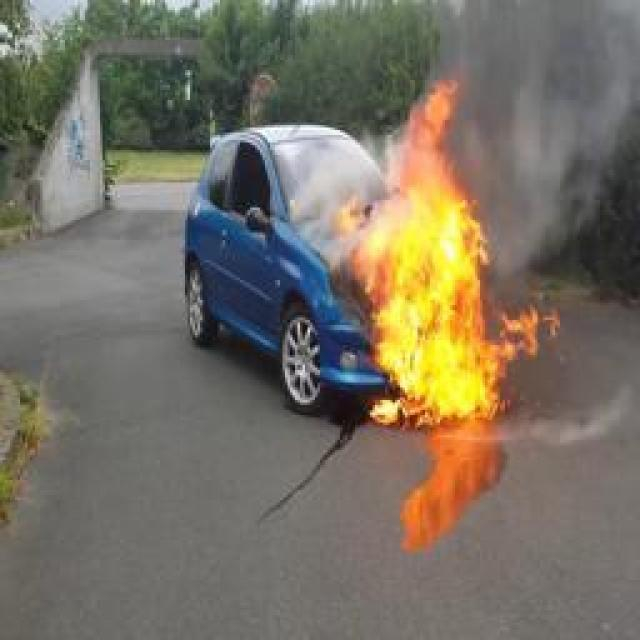Fire: (342, 78, 566, 422)
